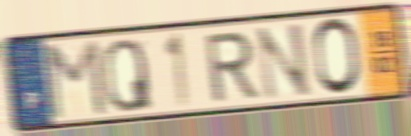1: (164, 28, 191, 112)
M: (44, 37, 109, 122)
N: (254, 20, 314, 102)
O: (311, 16, 363, 98)
Q: (101, 36, 155, 114)
R: (202, 28, 261, 105)
